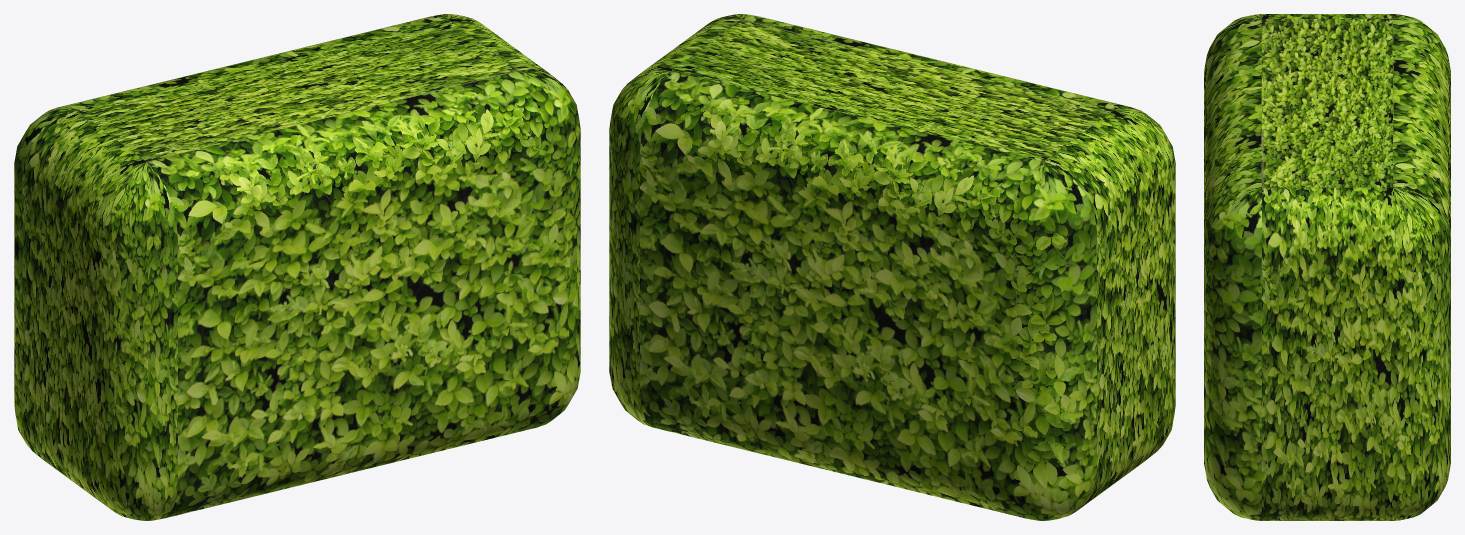
Rendered from BushNew.fbx.
3 renders of one model, left to right at view 1: azimuth 30°, elevation 25°; view 2: azimuth 150°, elevation 25°; view 3: azimuth 270°, elevation 25°, orthographic. The views are drawn at different scales.
Visible parts, largest first — view 1: BushNew; view 2: BushNew; view 3: BushNew.
Boxes of the visible parts, x1,y1,x2,y2 form: BushNew: (14,14,580,520); BushNew: (609,14,1175,520); BushNew: (1204,14,1450,520).
Size of the model in its own units: 167 by 117 by 80.
1 material, 1 textured.
